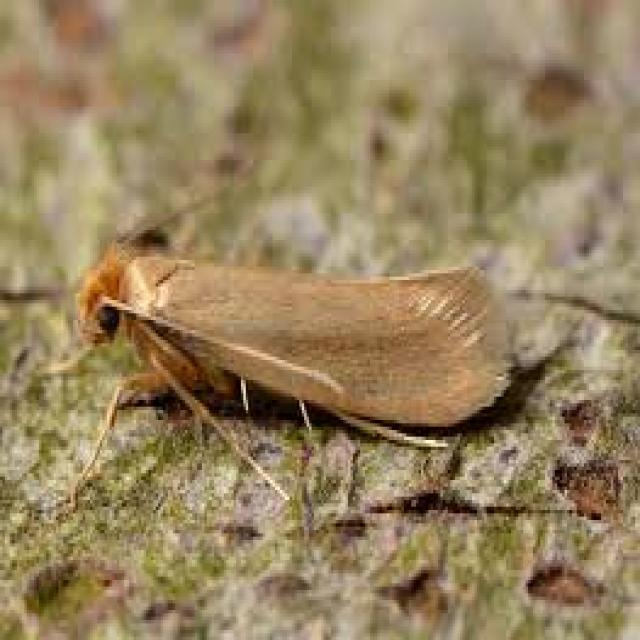yellow-stem-borer: (57, 168, 527, 481)
